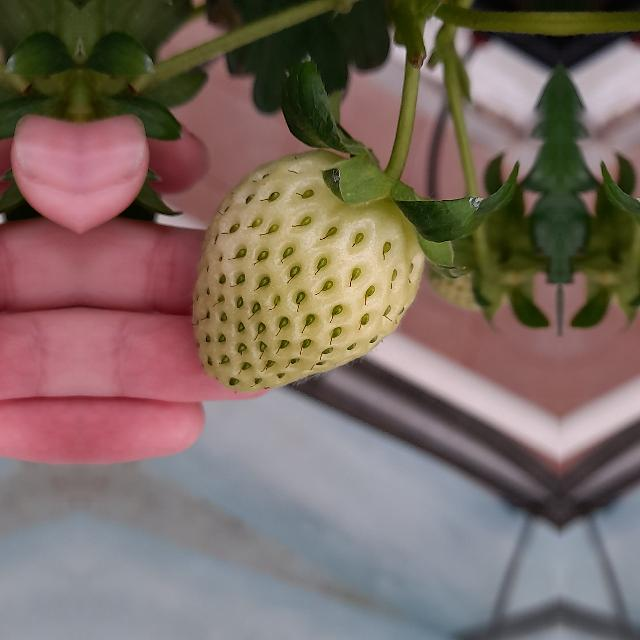Health_25: (192, 148, 424, 392)
